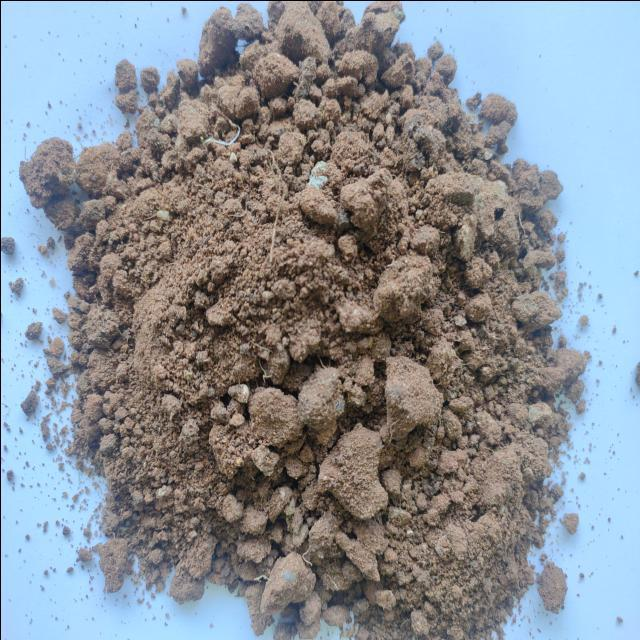soil: (127, 154, 479, 532)
